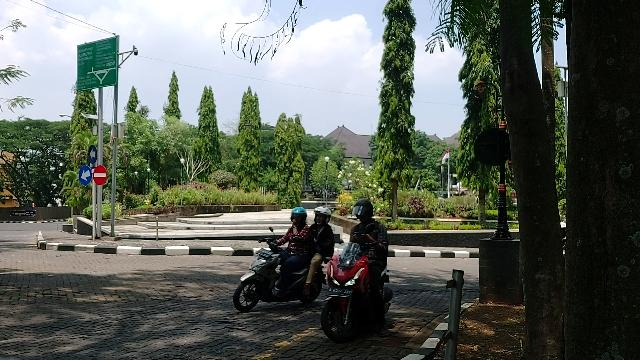helm: (353, 200, 374, 222), (315, 208, 331, 227), (291, 209, 308, 226)
motor: (323, 244, 393, 341), (235, 242, 323, 313)
